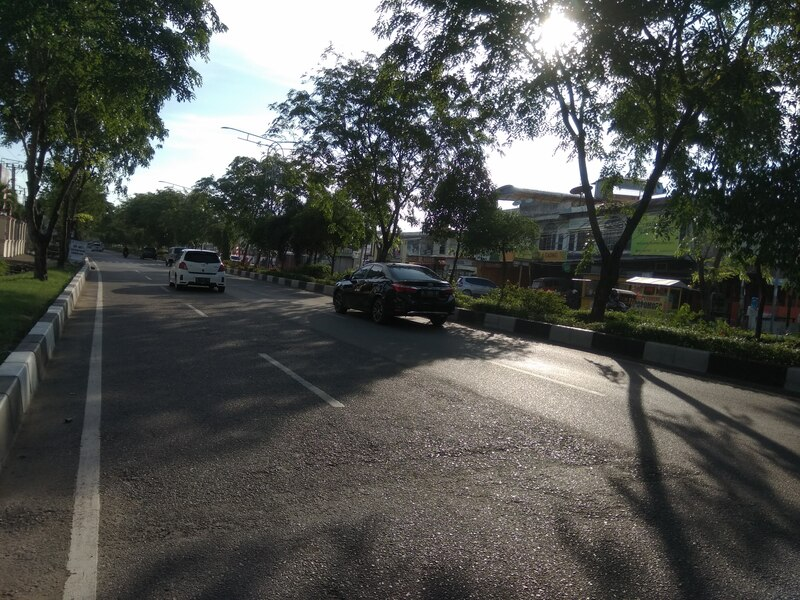car: (330, 259, 456, 334), (165, 243, 229, 299)
